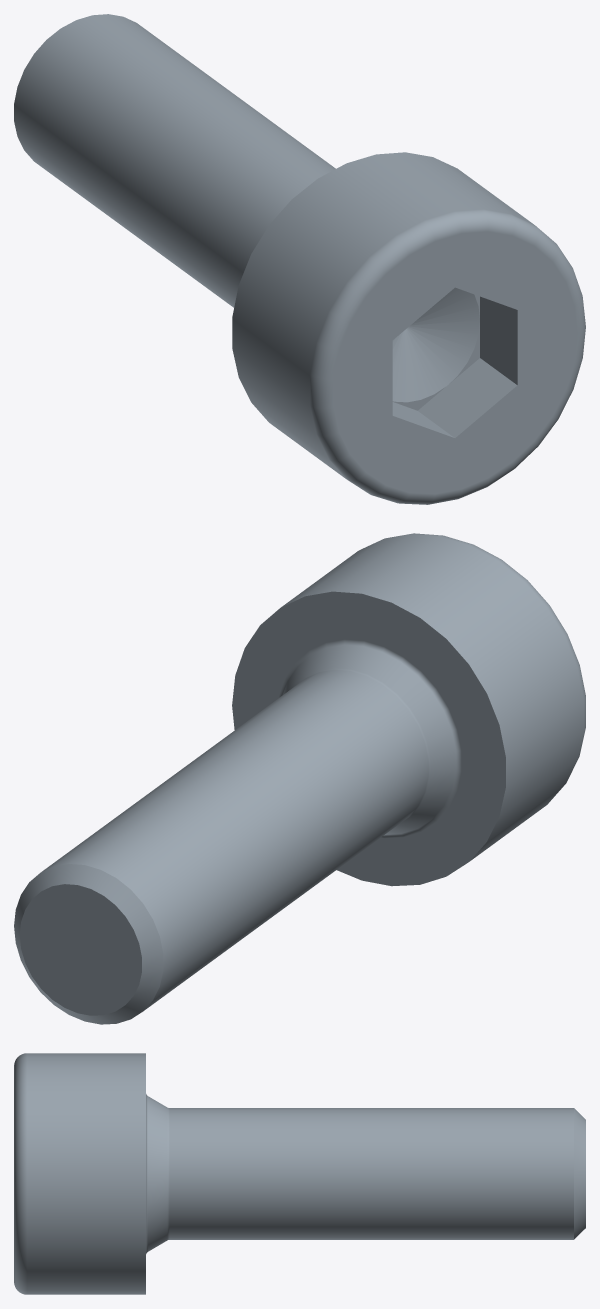
File: Hex_socket_head_cap_screw_M3x0_50_x_10.obj
The picture shows the model from 3 angles, top to bottom: view 1: azimuth 30°, elevation 25°; view 2: azimuth 150°, elevation 25°; view 3: azimuth 270°, elevation 25°; orthographic projection. The views are drawn at different scales.
Parts seen in each view (by area): view 1: mesh3672, mesh3679, mesh3677, mesh3678, mesh3687, mesh3685, mesh3680, mesh3684; view 2: mesh3672, mesh3677, mesh3676, mesh3670, mesh3674, mesh3671, mesh3675, mesh3678, mesh3673; view 3: mesh3672, mesh3677, mesh3678, mesh3674, mesh3671, mesh3675, mesh3673.
Boxes of the visible parts, <box> form: mesh3672: <box>14,14,335,307</box>; mesh3679: <box>333,231,577,493</box>; mesh3677: <box>232,152,533,478</box>; mesh3678: <box>310,209,585,504</box>; mesh3687: <box>392,287,479,402</box>; mesh3685: <box>418,358,517,437</box>; mesh3680: <box>480,296,517,384</box>; mesh3684: <box>392,402,454,437</box>; mesh3672: <box>42,670,428,1010</box>; mesh3677: <box>282,534,583,860</box>; mesh3676: <box>232,591,505,886</box>; mesh3670: <box>19,884,141,1015</box>; mesh3674: <box>283,645,455,834</box>; mesh3671: <box>14,864,163,1024</box>; mesh3675: <box>278,639,461,838</box>; mesh3678: <box>363,533,585,804</box>; mesh3673: <box>300,668,430,822</box>; mesh3672: <box>169,1108,573,1239</box>; mesh3677: <box>27,1053,145,1294</box>; mesh3678: <box>14,1053,27,1294</box>; mesh3674: <box>148,1096,167,1251</box>; mesh3671: <box>574,1108,585,1239</box>; mesh3675: <box>146,1094,148,1253</box>; mesh3673: <box>167,1107,169,1240</box>.
Size of the model in its own units: 0.00548 by 0.00549 by 0.013.
